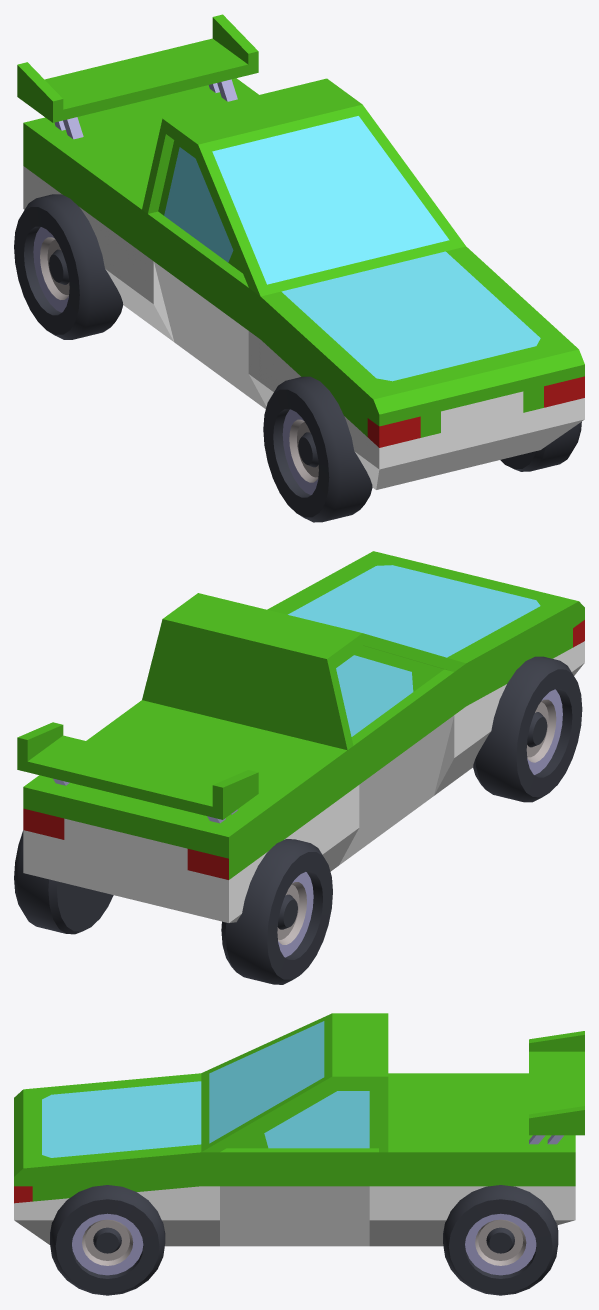
File: racecar.fbx
The picture shows the model from 3 angles, top to bottom: view 1: azimuth 30°, elevation 25°; view 2: azimuth 150°, elevation 25°; view 3: azimuth 270°, elevation 25°; orthographic projection. The views are drawn at different scales.
Parts seen in each view (by area): view 1: body_frontStandard, body_topSports, wheel_standard (×3), body_backSolid, body_edge, spoiler_fins; view 2: body_backSolid, body_topSports, wheel_standard (×3), body_frontStandard, body_edge, spoiler_fins; view 3: body_frontStandard, body_backSolid, body_topSports, wheel_standard (×2), body_edge, spoiler_fins.
Part boxes in pixels (x1,y1,x2,y2): body_frontStandard: [260, 246, 584, 489]; body_topSports: [142, 78, 465, 296]; wheel_standard (×3): [14, 194, 581, 522]; body_backSolid: [23, 78, 258, 333]; body_edge: [142, 210, 269, 409]; spoiler_fins: [17, 14, 258, 139]; body_backSolid: [23, 700, 347, 922]; body_topSports: [142, 593, 465, 750]; wheel_standard (×3): [14, 656, 582, 984]; body_frontStandard: [267, 551, 584, 786]; body_edge: [330, 663, 466, 871]; spoiler_fins: [17, 722, 258, 823]; body_frontStandard: [14, 1073, 201, 1246]; body_backSolid: [388, 1073, 575, 1246]; body_topSports: [201, 1013, 388, 1152]; wheel_standard (×2): [50, 1185, 558, 1295]; body_edge: [201, 1148, 388, 1246]; spoiler_fins: [529, 1031, 584, 1144].
Size of the model in its own units: 12.33 by 12.08 by 30.5.
